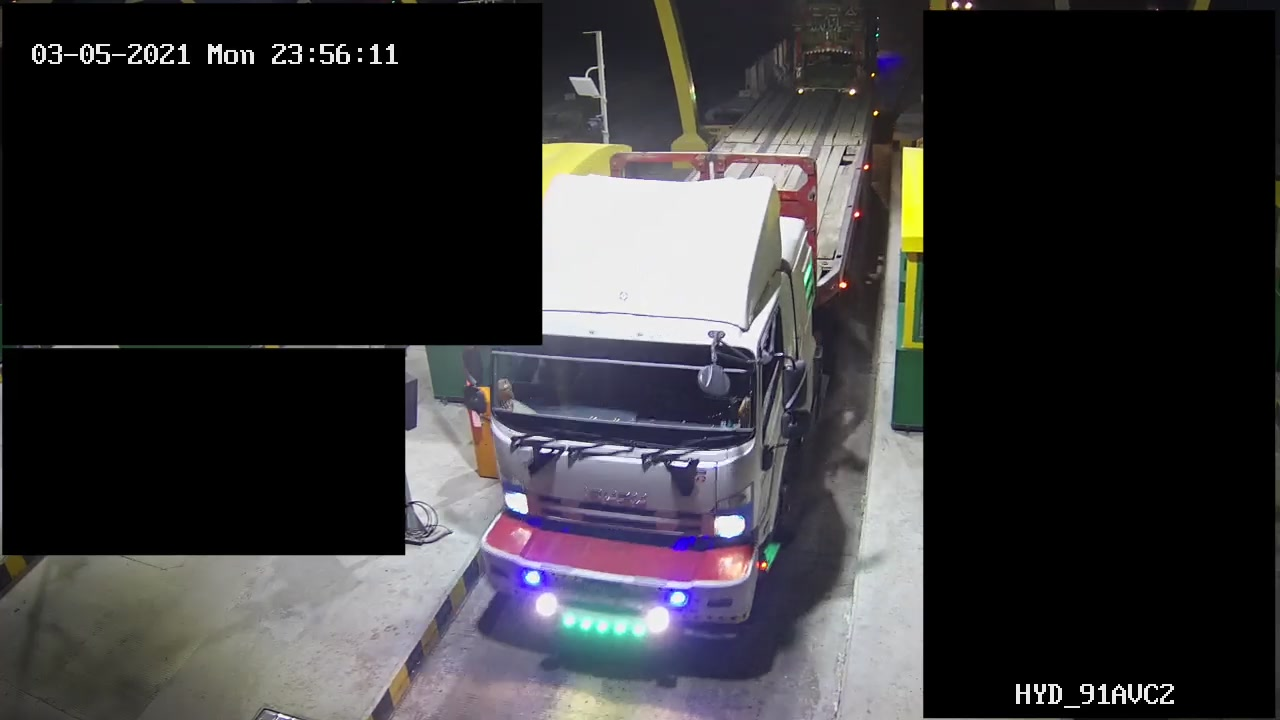F6: (477, 83, 877, 653)
